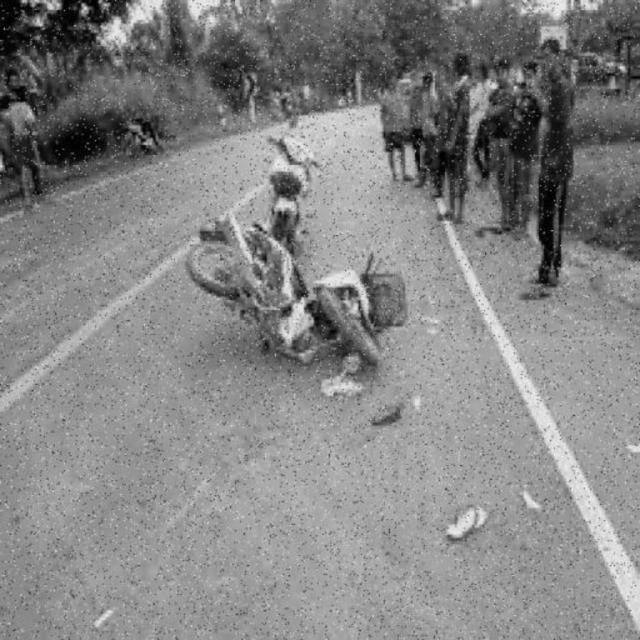accident: (198, 118, 399, 381)
person: (538, 26, 586, 304), (7, 64, 62, 214), (437, 45, 481, 222), (481, 48, 517, 232), (509, 66, 550, 220), (377, 71, 421, 179)
